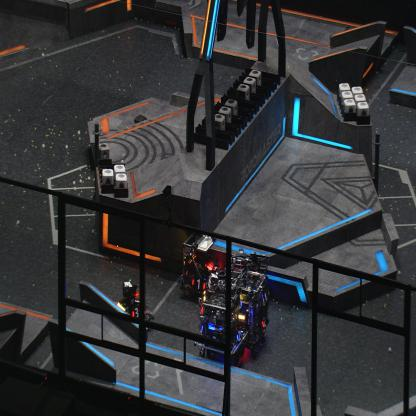car: (194, 273, 248, 368), (226, 267, 269, 353), (222, 247, 270, 320), (179, 232, 221, 301), (114, 282, 154, 330)
